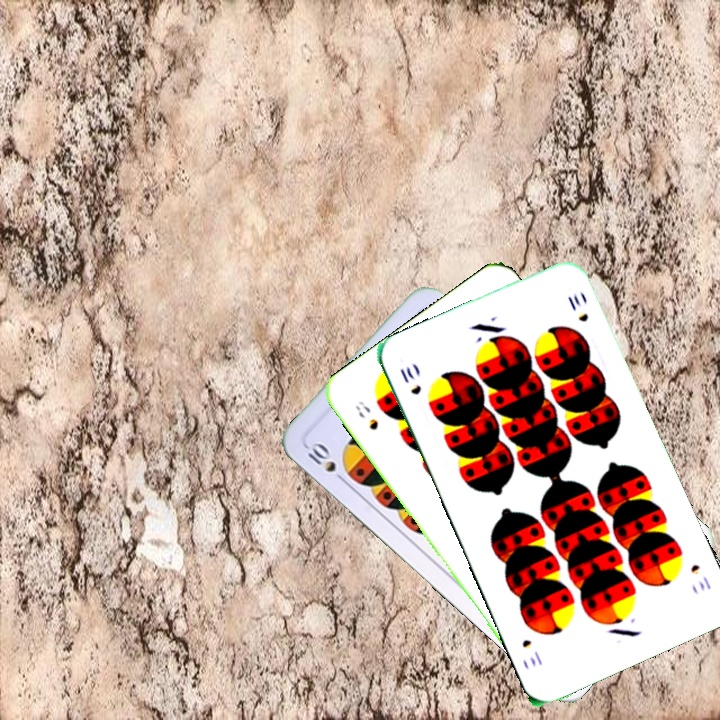S10: (303, 438, 350, 486), (395, 362, 424, 398), (686, 560, 714, 594)
S8: (351, 396, 381, 433)
